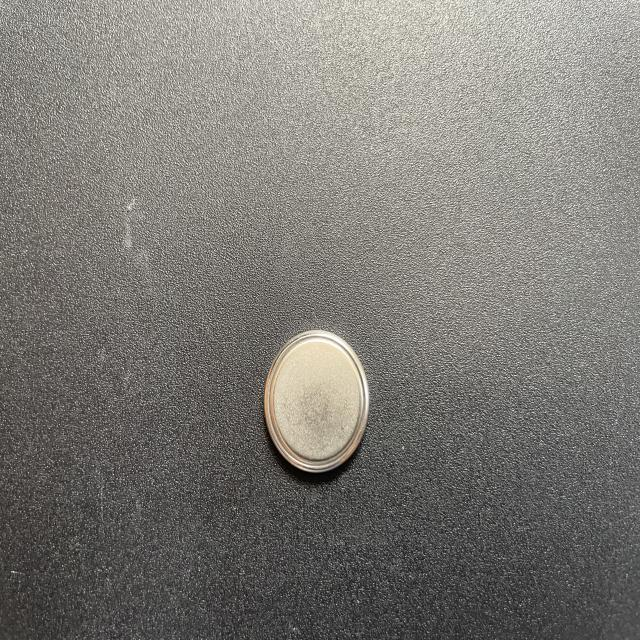COIN: (262, 323, 370, 478)
